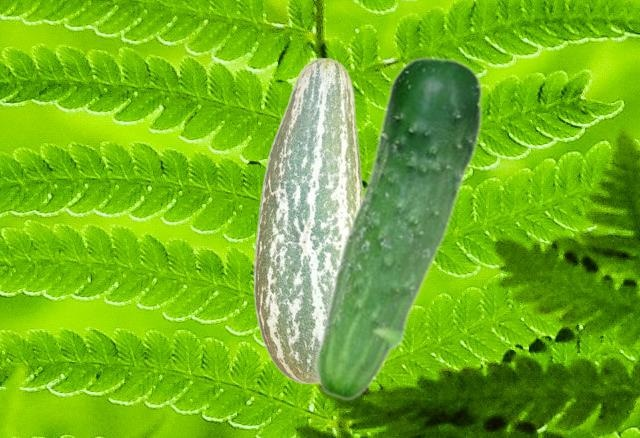cucumber: (312, 56, 483, 400), (253, 57, 363, 383)
